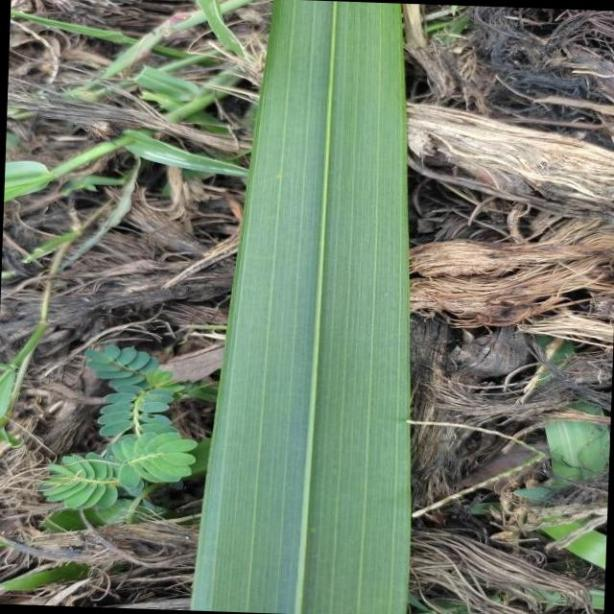Healthy: (192, 0, 411, 614)
